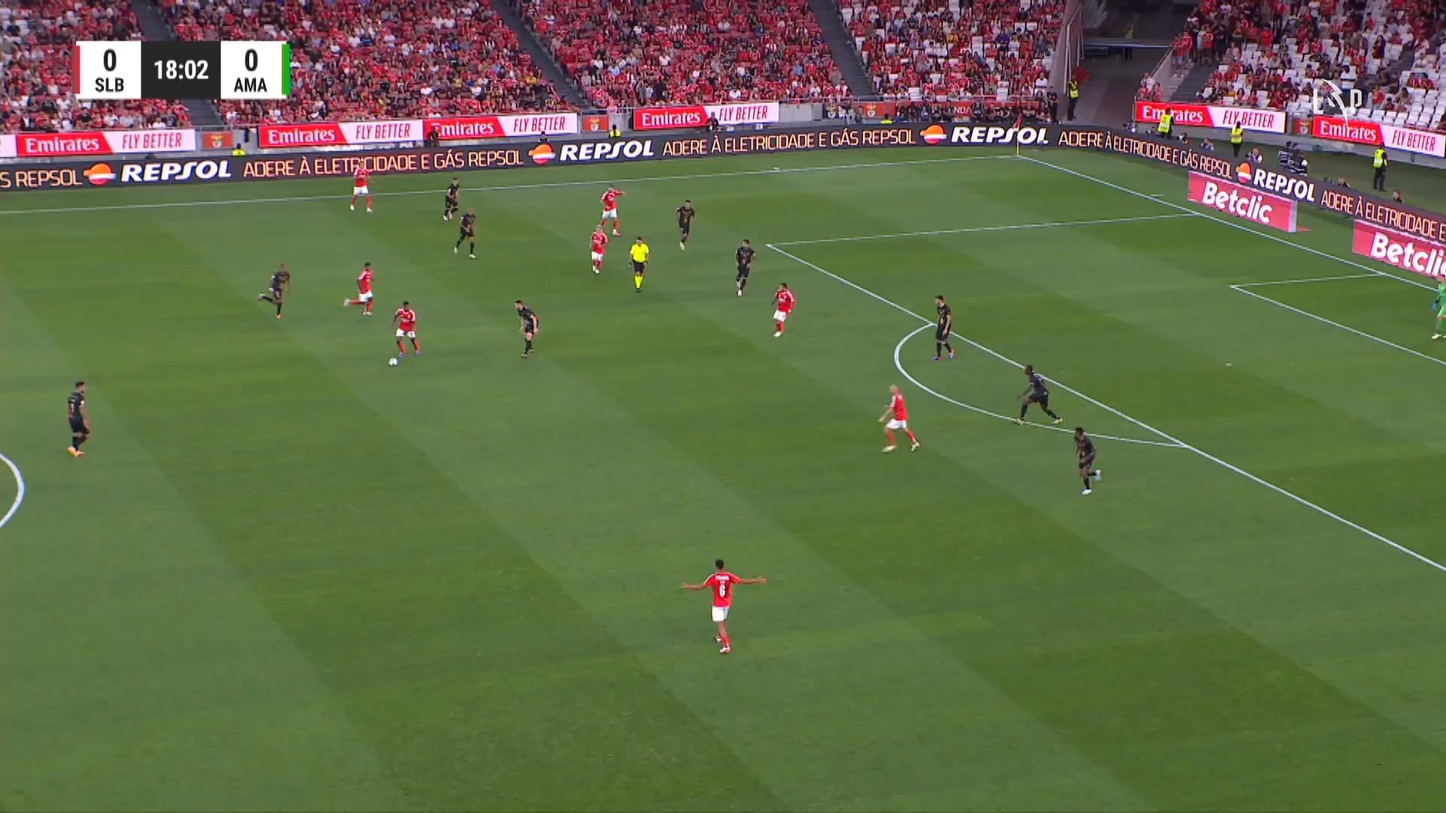ball: (388, 357, 397, 367)
goalkeeper: (1429, 272, 1445, 339)
player: (679, 558, 767, 654), (1013, 364, 1063, 425), (877, 383, 920, 452), (1073, 425, 1101, 495), (66, 379, 91, 457), (257, 262, 290, 319), (342, 261, 374, 316), (392, 300, 421, 357), (931, 294, 954, 361), (513, 298, 538, 358), (770, 282, 795, 336), (349, 157, 373, 213), (599, 184, 624, 236), (453, 207, 477, 259), (734, 238, 755, 297), (588, 224, 608, 275), (675, 198, 694, 251), (442, 176, 460, 221)
referee: (627, 235, 649, 293)
